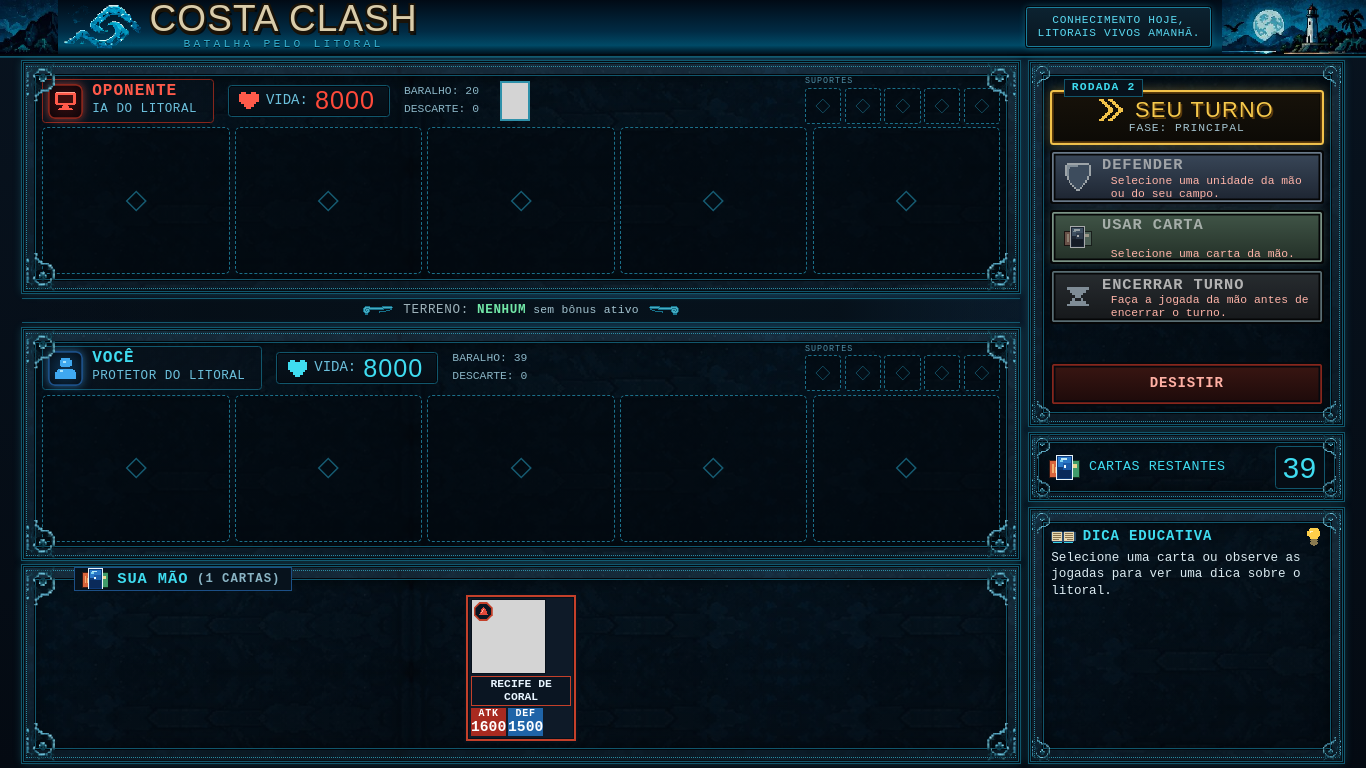
Test: Partida: leitura do tabuleiro e jogadas › após escolher a zona, oferece por teclado as duas faces e permite baixar virada para baixo
Click the button with aria-label "Mão 1:". click: [521, 668]
box: [466,595,576,741]
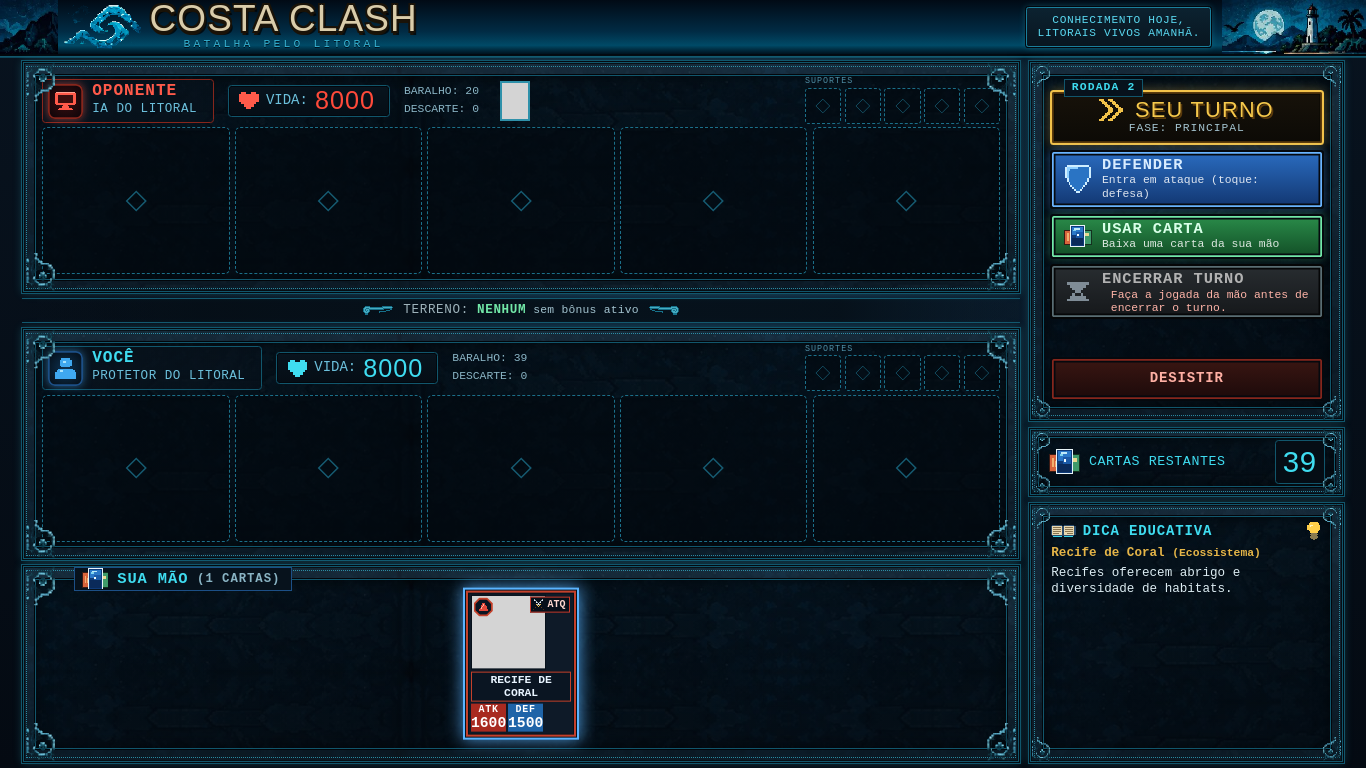
Click the button "Usar carta Baixa uma carta da sua mão". click: [1187, 236]
box: [1050,214,1324,259]
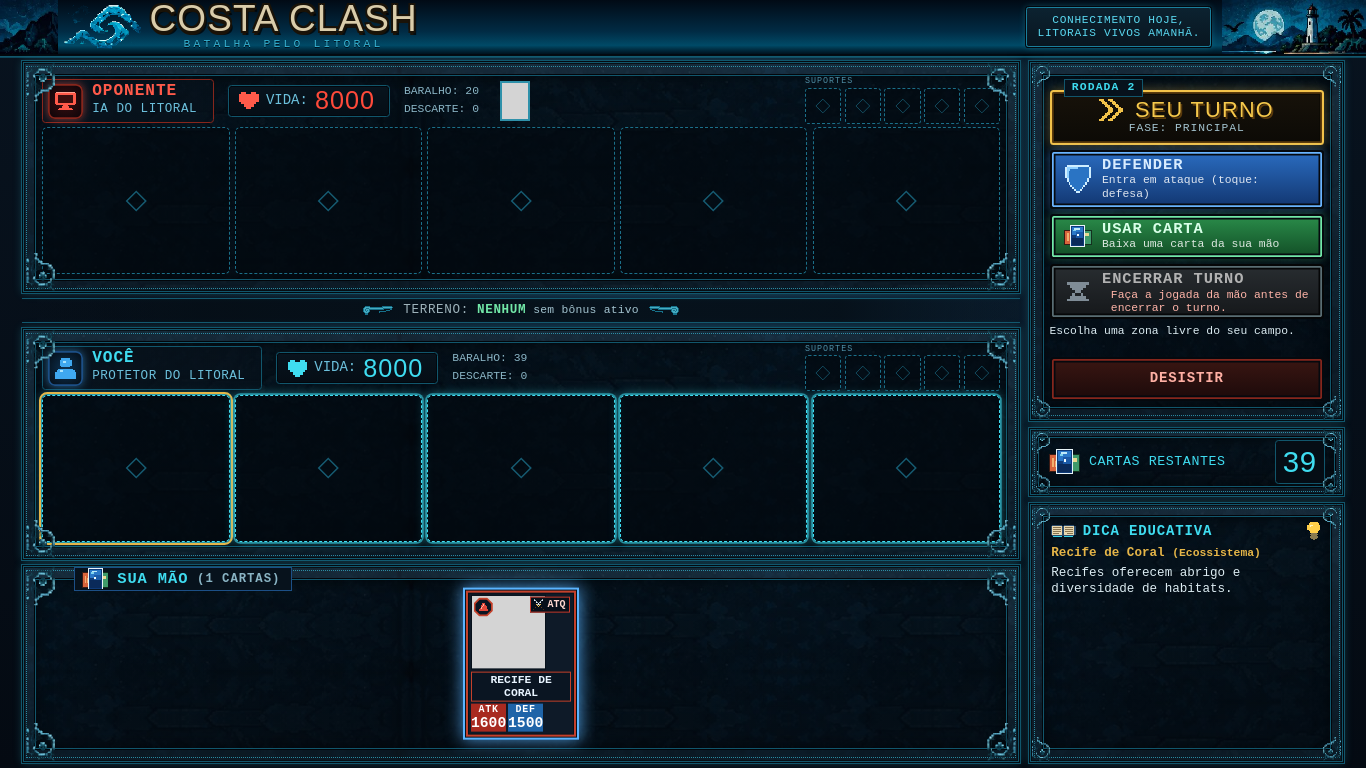
Click the button named "Zona 1 sua: vazia". click: [136, 468]
box: [42,395,230,542]
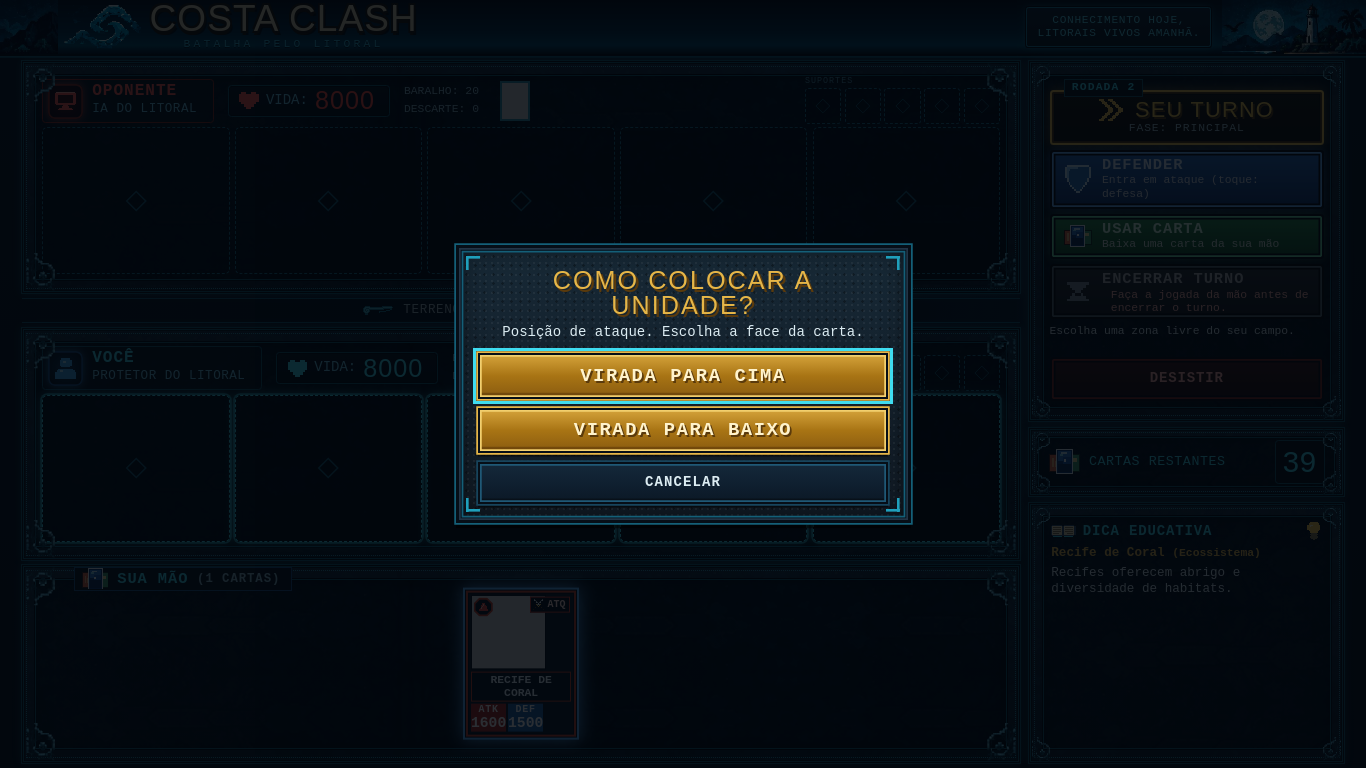
Now the dialog "Como colocar a unidade?" shows "Posição de ataque", box [456,245,910,523]
Click the button "Virada para baixo". click: [683, 430]
box: [478,408,888,453]
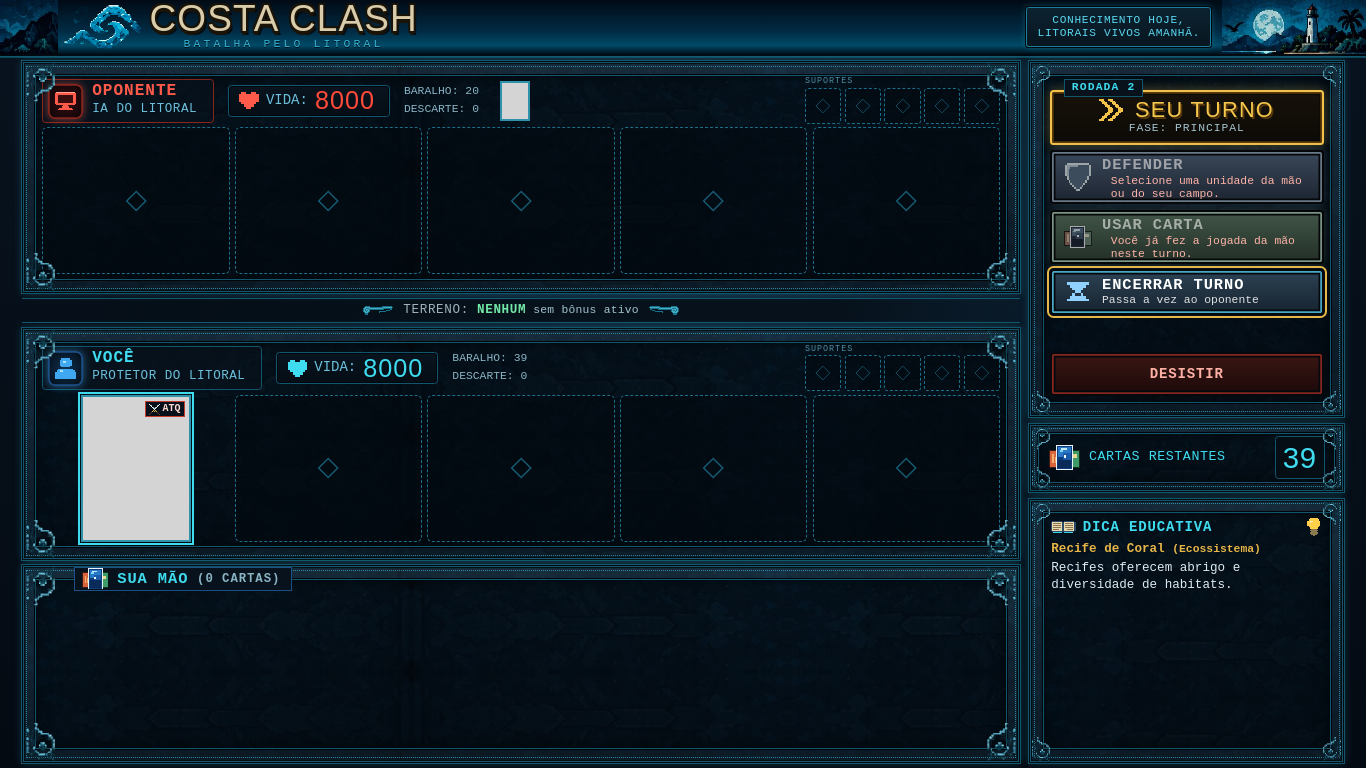
Now the heading "Como colocar a unidade?" is gone
